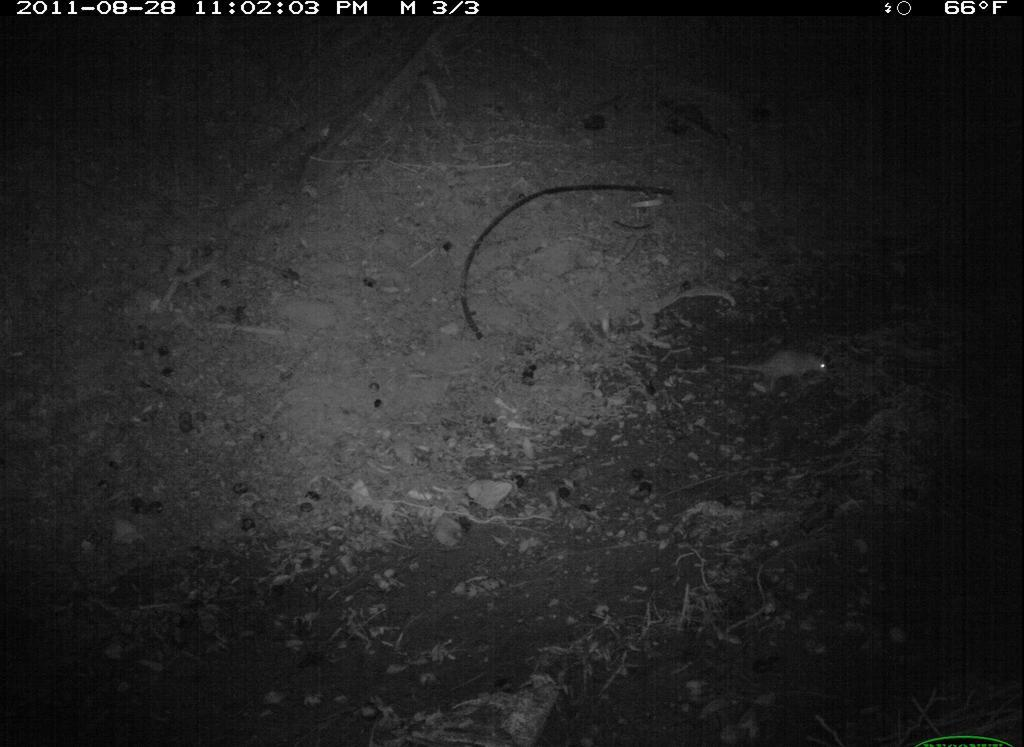opossum: (720, 344, 841, 402)
